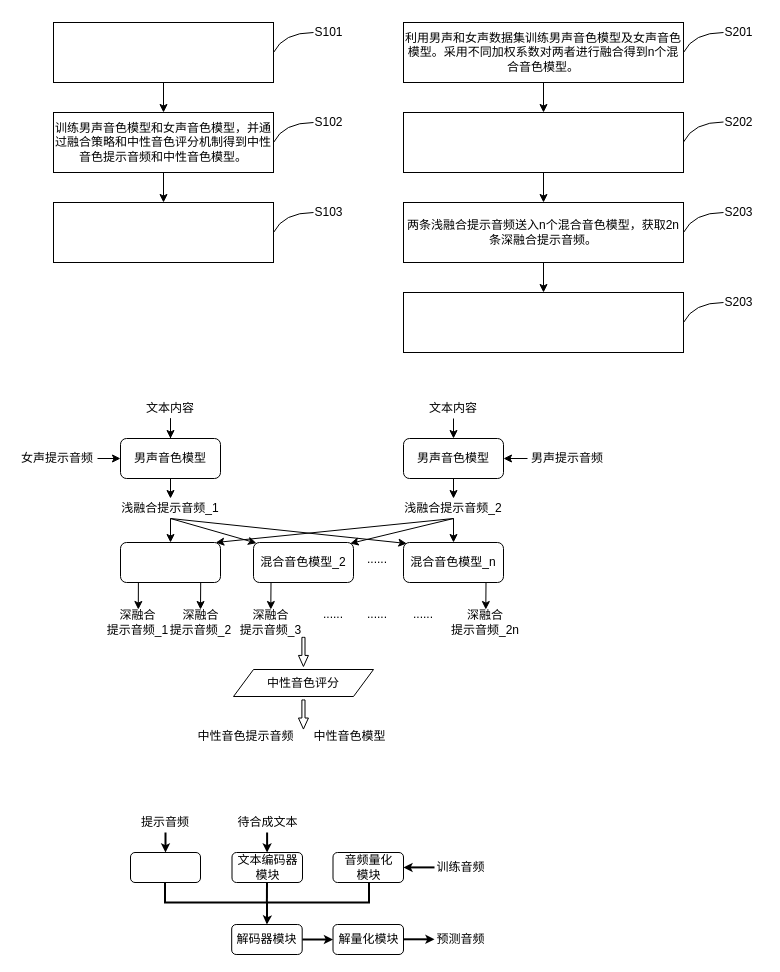
Image size: 780x972. Some labels were removed from this diagram. The centre of each missing label's shape, as x and y in pixels:
"准备待合成文本内容" goes at pixel 163 52.
"利用语音性别分类模型对2n条深融合提示音频进行中性音色评分，将得分最高的音频和对应的混合音色模型分别作为中性音色提示音频和中性音色模型。" goes at pixel 543 322.
"将待合成文本内容及中性音色提示音频送入中性音色模型，得到文本内容对应的中性音色音频" goes at pixel 163 232.
"将男声提示音频送入女声音色模型，得到浅融合提示音频_1；将女声提示音频送入男声音色模型，得到浅融合提示音频_2。" goes at pixel 543 142.
"混合音色模型_1" goes at pixel 170 562.
"说话人特征提取模块" goes at pixel 165 867.
